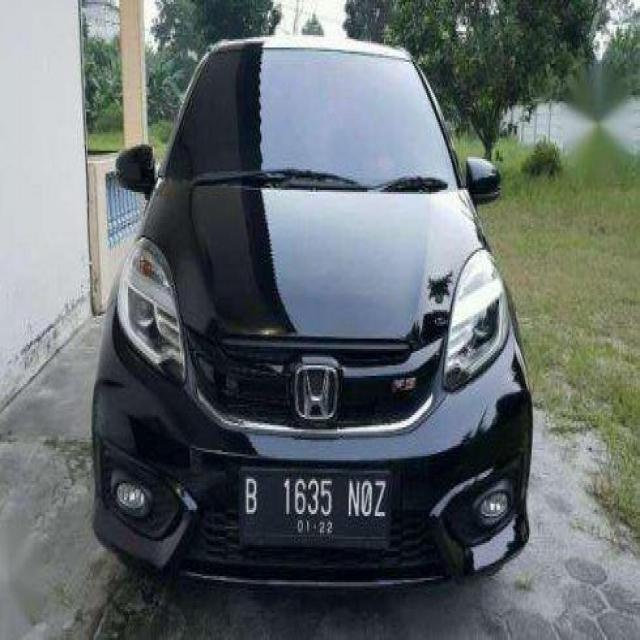plate: (240, 469, 393, 548)
